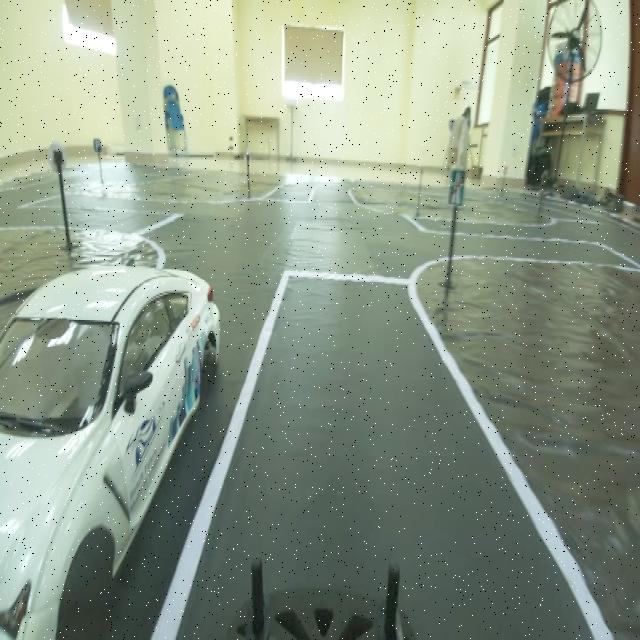car: (3, 283, 241, 634)
highway_exit: (443, 158, 478, 222)
